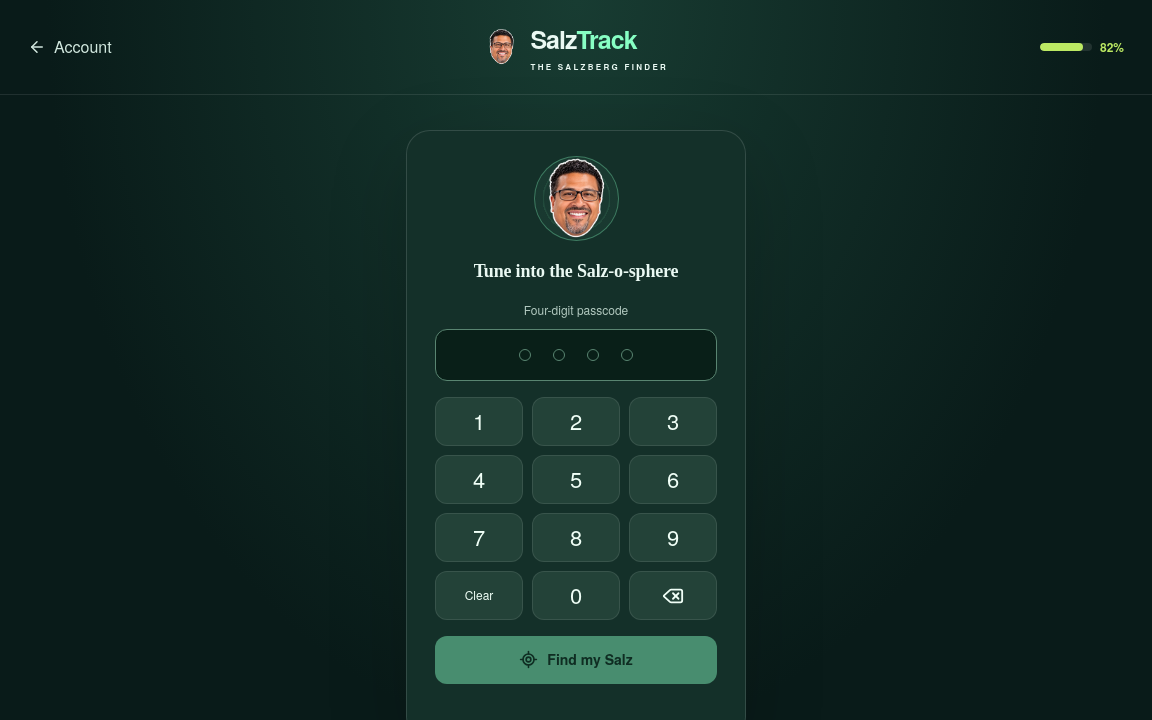
SalzTrack keypad › allows retry after an invalid code without displaying a map
Click the button "3" at (673, 422), box [629, 397, 717, 446]
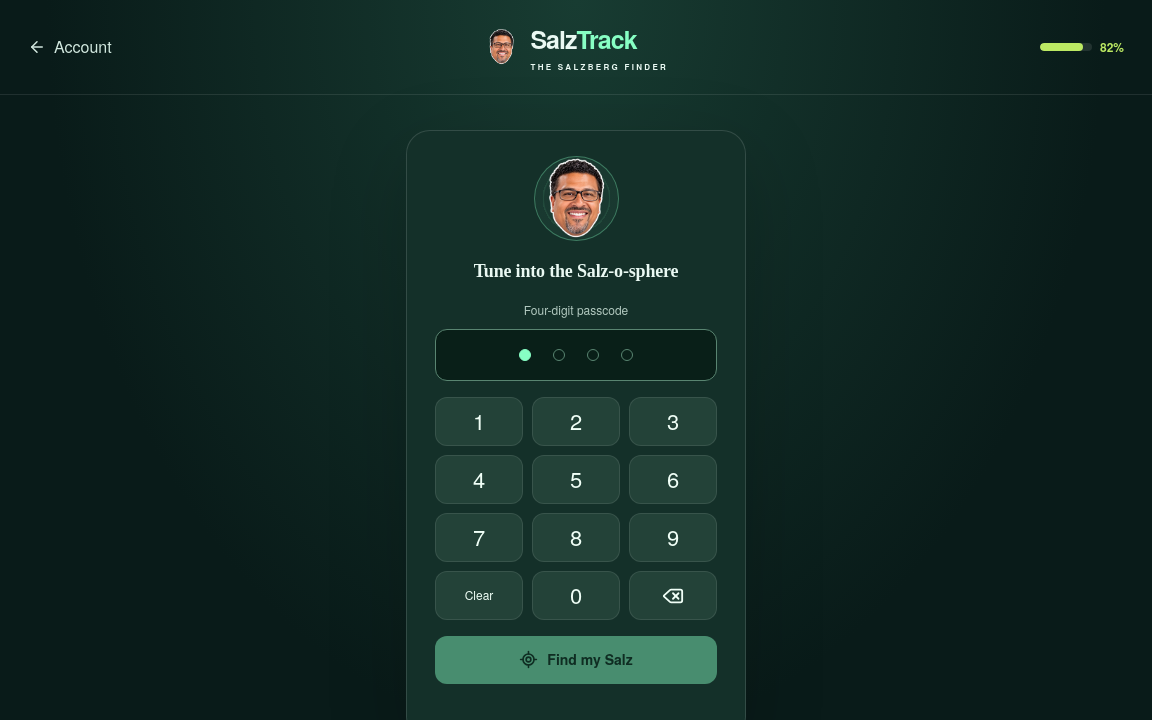
Click the button "3" at (673, 422), box [629, 397, 717, 446]
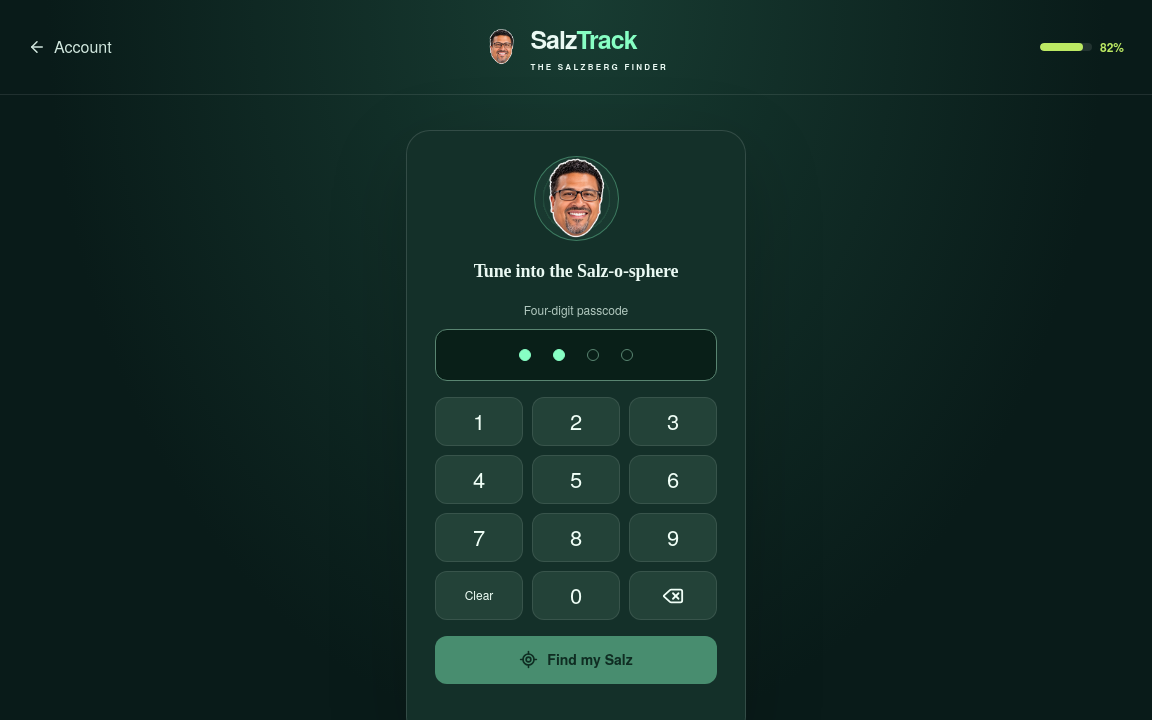
Click the button "2" at (576, 422), box [532, 397, 620, 446]
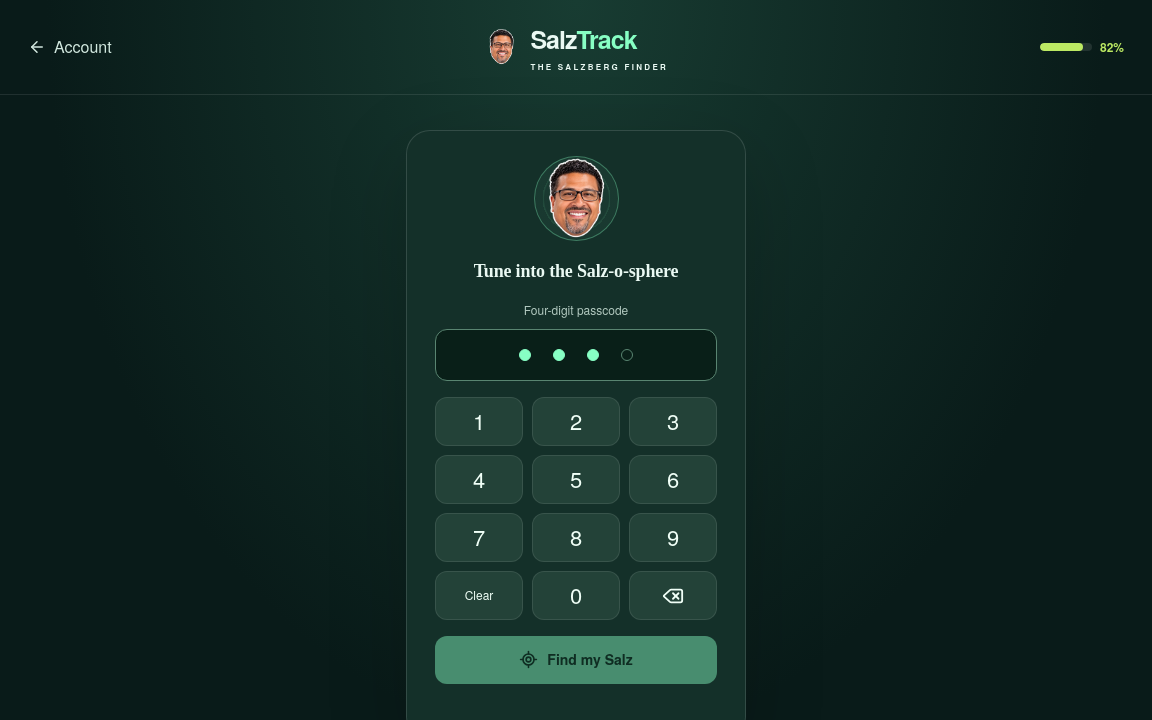
Click the button "0" at (576, 596), box [532, 571, 620, 620]
(page scrolled)
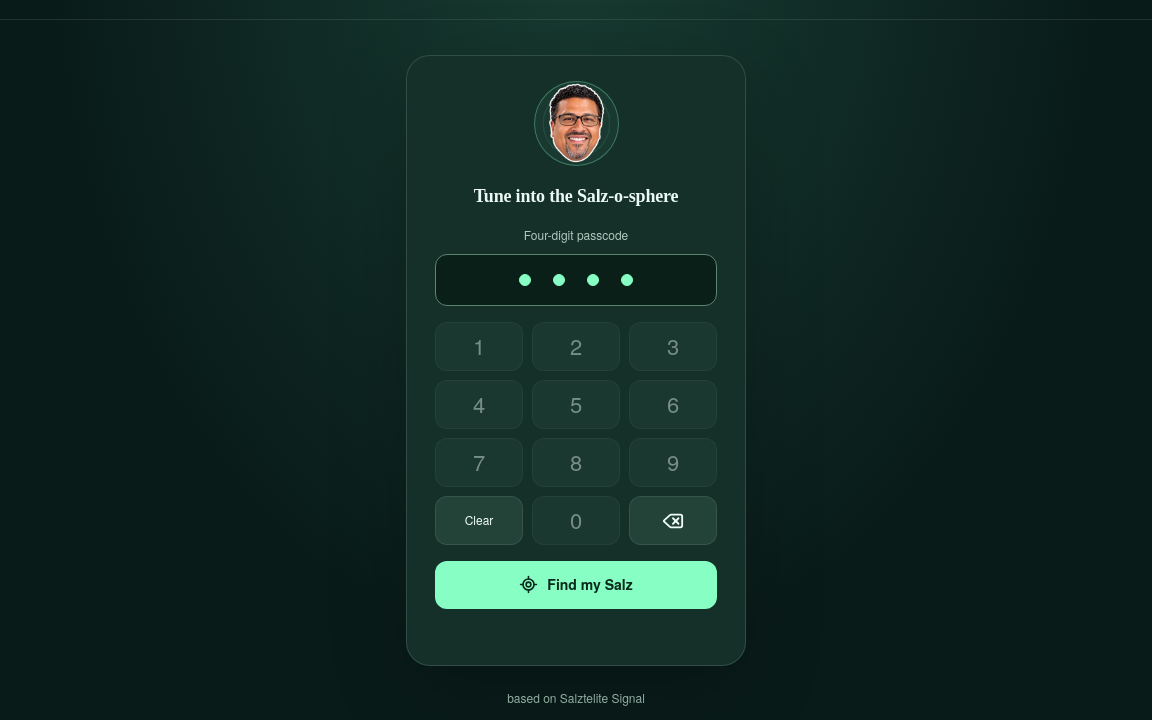
Submit the form, box [406, 55, 746, 666]
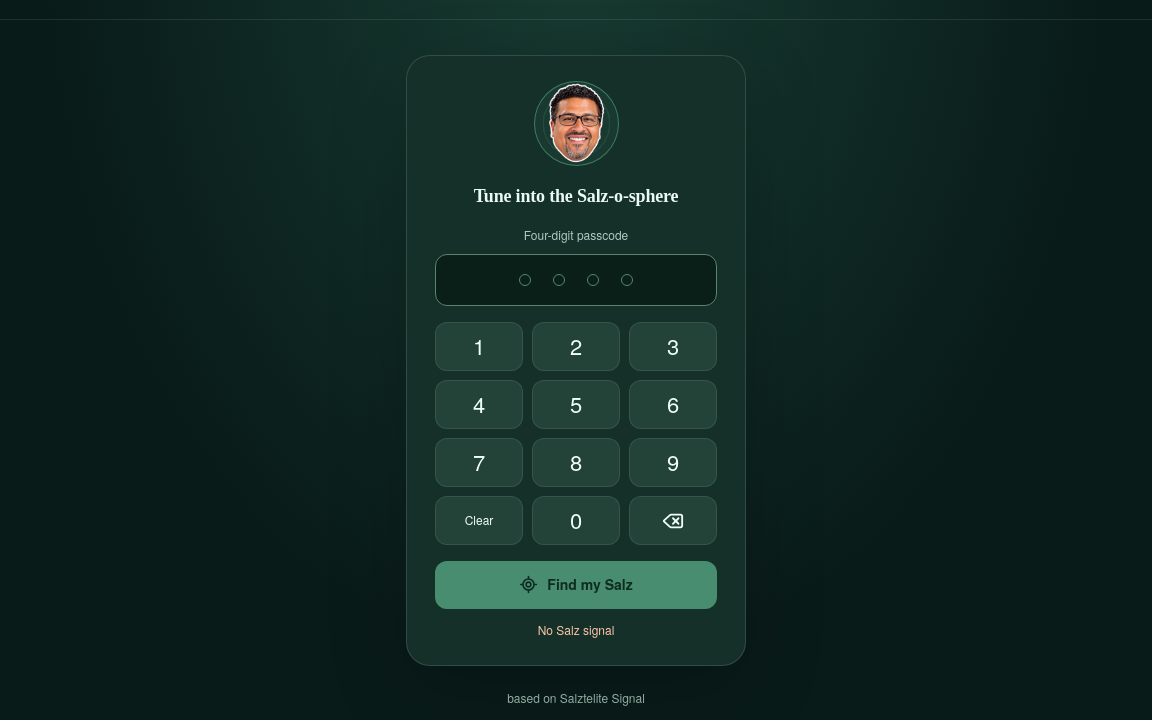
Expected: the message with class "salztrack-feedback" reads "No Salz signal", [538, 621, 614, 638]
